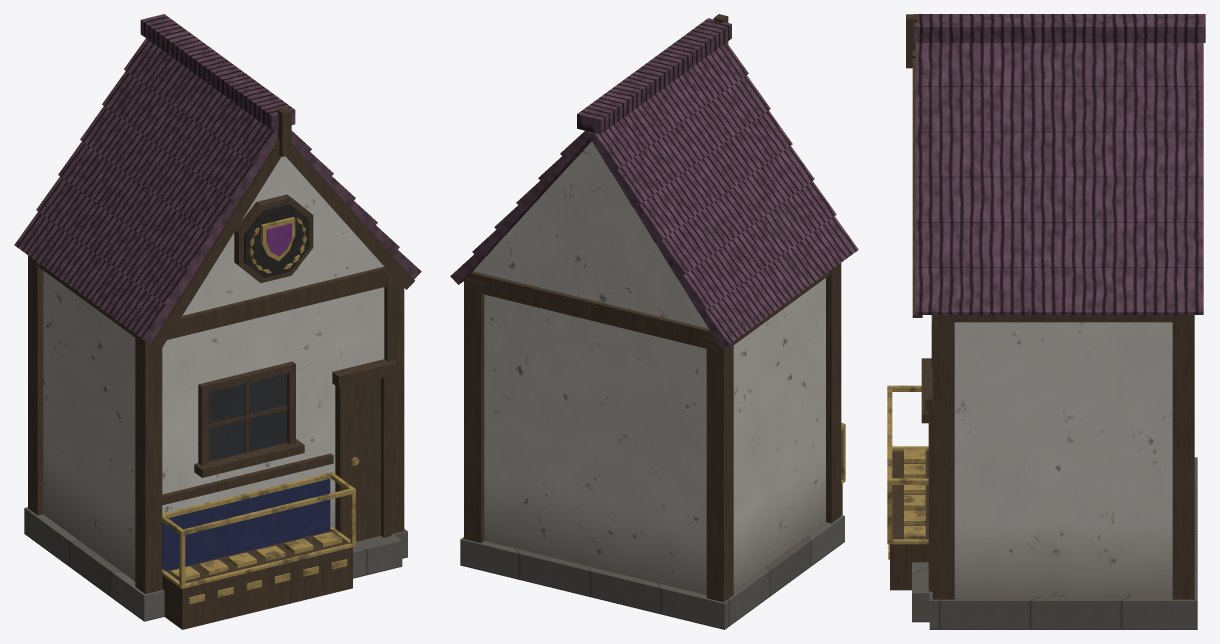
File: 상점_업적판.fbx
3 renders of one model, left to right at view 1: azimuth 30°, elevation 25°; view 2: azimuth 150°, elevation 25°; view 3: azimuth 270°, elevation 25°, orthographic. The views are drawn at different scales.
Parts seen in each view (by area): view 1: 상점_업적판; view 2: 상점_업적판; view 3: 상점_업적판.
Part boxes in pixels (x1=…): 상점_업적판: x1=14, y1=14, x2=421, y2=629; 상점_업적판: x1=450, y1=14, x2=858, y2=629; 상점_업적판: x1=887, y1=14, x2=1205, y2=629.
Bounding box in the file's own units: 898 × 1495 × 796.
Materials: 9 (9 with a texture image).
